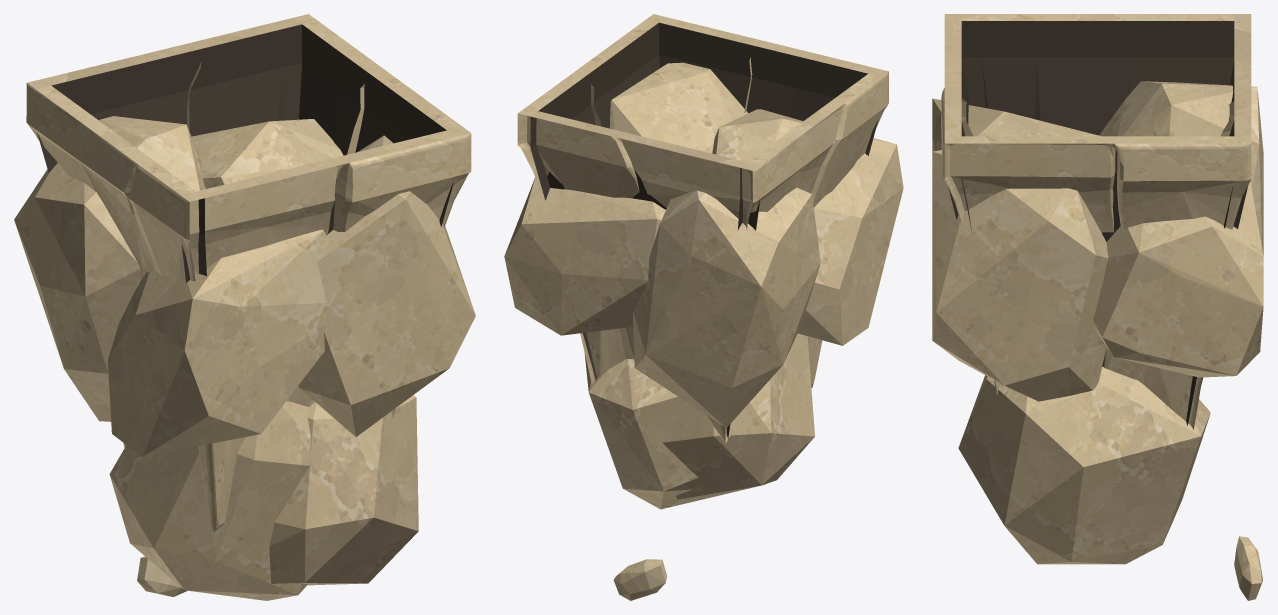
File: ground_bottom_island_07.glb
3 renders of one model, left to right at view 1: azimuth 30°, elevation 25°; view 2: azimuth 150°, elevation 25°; view 3: azimuth 270°, elevation 25°, orthographic. The views are drawn at different scales.
Visible parts, largest first — view 1: GroundBottomIsland07_Body; view 2: GroundBottomIsland07_Body; view 3: GroundBottomIsland07_Body.
Part boxes in pixels (x1,y1,x2,y2): GroundBottomIsland07_Body: (14, 14, 475, 600); GroundBottomIsland07_Body: (504, 14, 903, 600); GroundBottomIsland07_Body: (932, 14, 1263, 600).
Size of the model in its own units: 1.08 by 1.86 by 1.08.
Materials: 16 (15 with a texture image).
